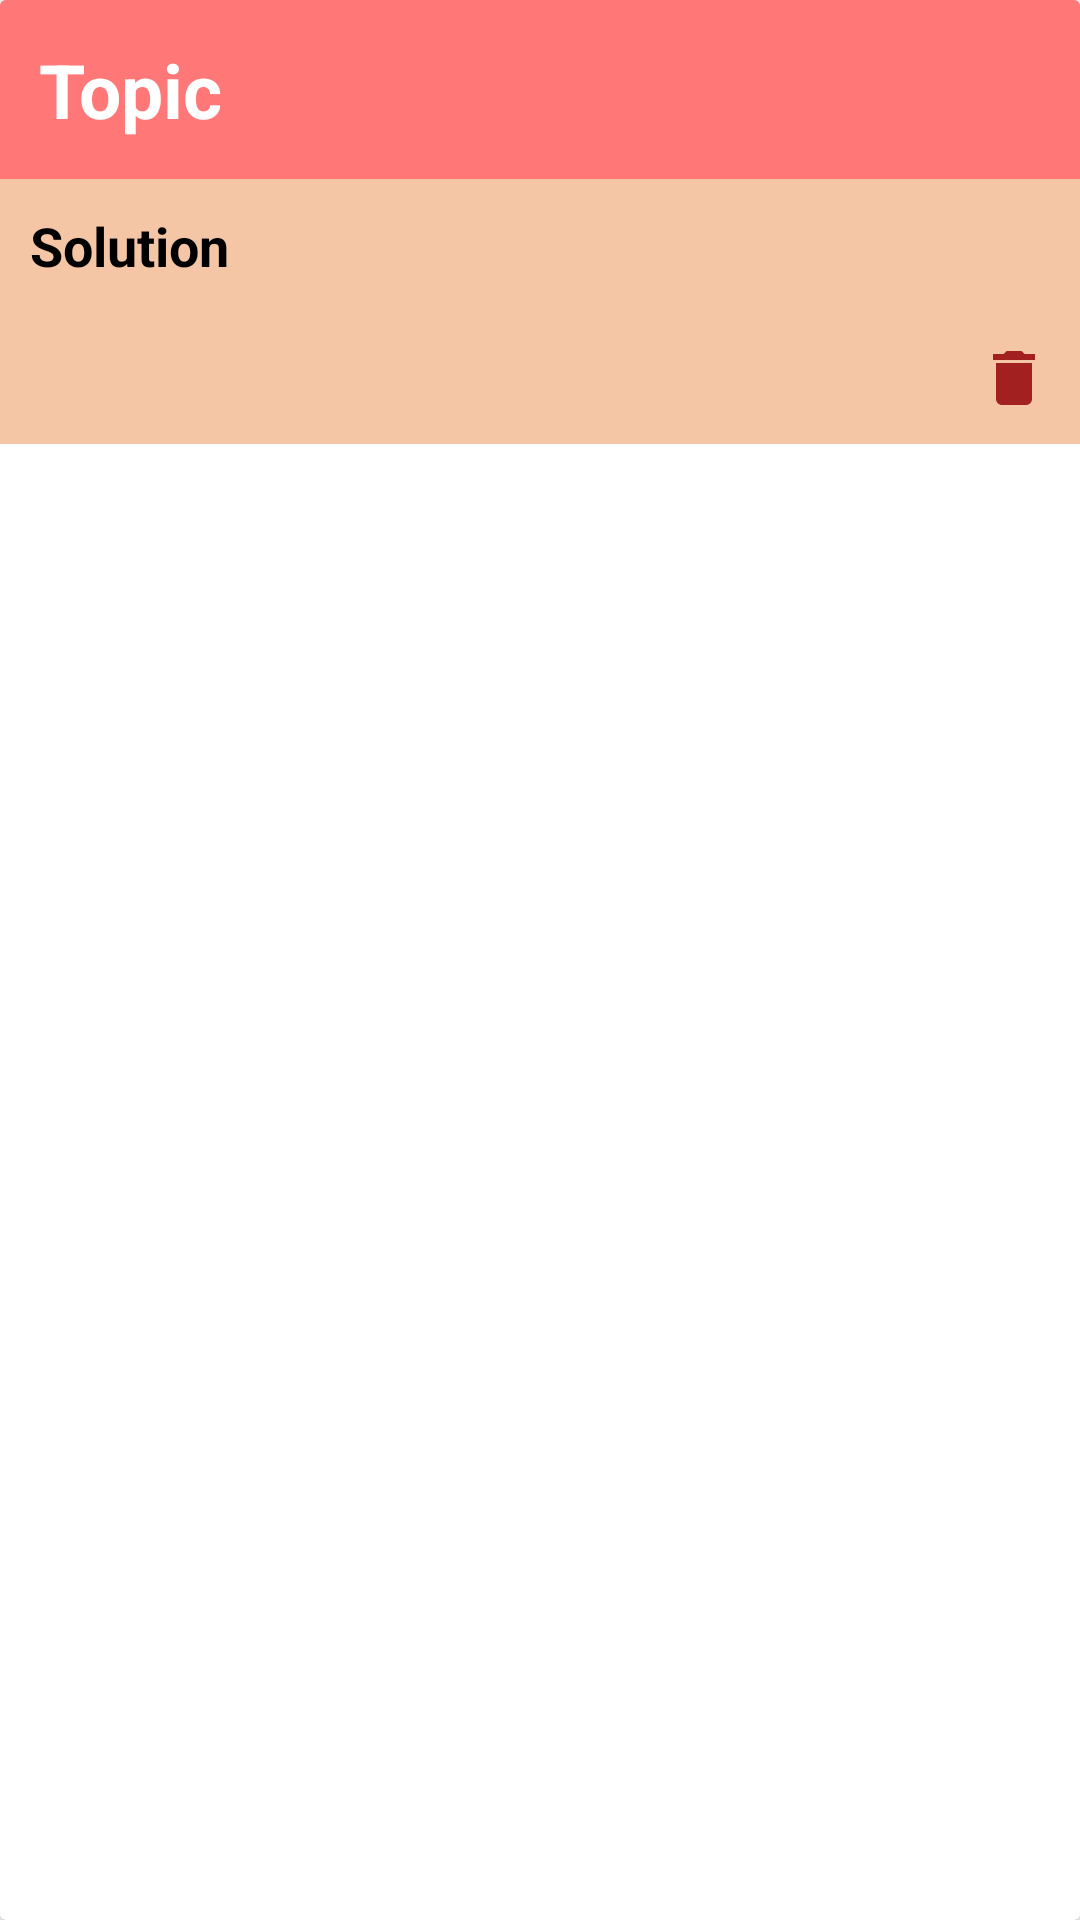

Where icons sit on this 1080 × 1920 app screen, as (x1, y1, x2, y2):
delete: (993, 351, 1035, 405)
